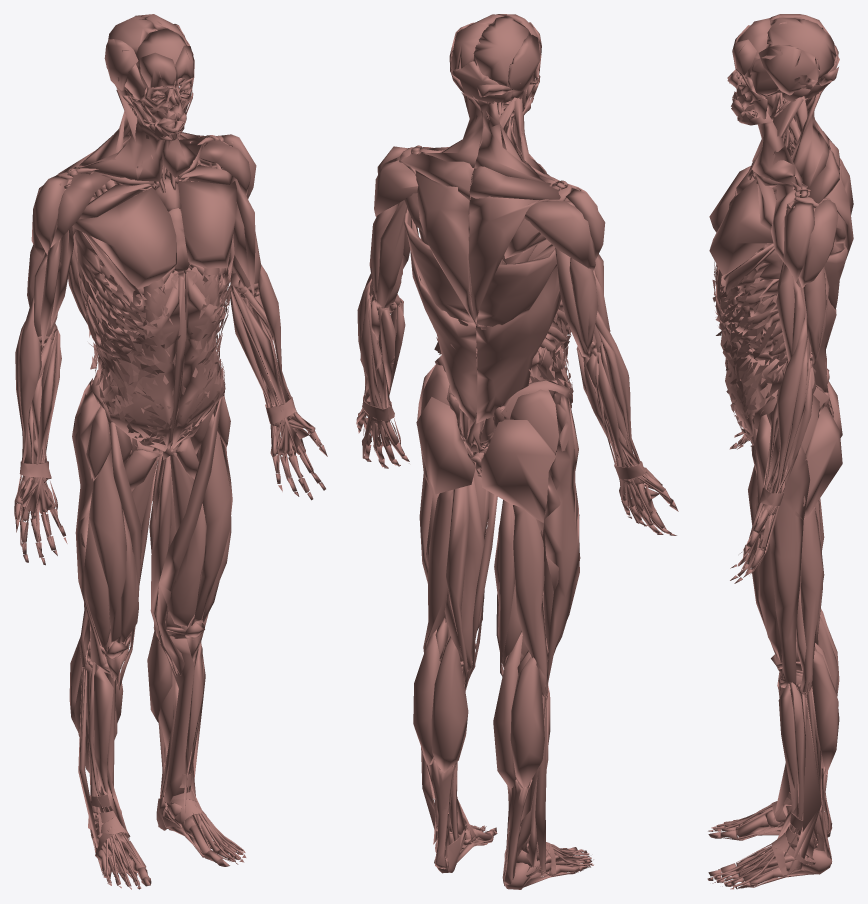
File: anatomy-mini.glb
3 views of the same model, side by side, from view 1: azimuth 30°, elevation 25°; view 2: azimuth 150°, elevation 25°; view 3: azimuth 270°, elevation 25° (orthographic). The views are drawn at different scales.
Parts seen in each view (by area): view 1: muscle__other-muscles, muscle__quadriceps, muscle__pectoralis-major, muscle__internal-oblique, muscle__external-oblique, muscle__forearm-flexors, muscle__adductors, soft__tissue, muscle__biceps-brachii, muscle__tibialis-anterior, bone__cranium, bone__tibia (+20 smaller); view 2: muscle__other-muscles, muscle__latissimus-dorsi, muscle__hamstrings, muscle__gastrocnemius, muscle__gluteus-maximus, muscle__trapezius-upper, muscle__forearm-extensors, muscle__triceps-brachii, bone__cranium, soft__tissue, muscle__deltoid-posterior, muscle__trapezius-lower (+17 smaller); view 3: muscle__other-muscles, muscle__pectoralis-major, muscle__external-oblique, bone__cranium, muscle__hamstrings, soft__tissue, muscle__gastrocnemius, muscle__gluteus-maximus, muscle__fibularis, muscle__internal-oblique, muscle__quadriceps, muscle__forearm-extensors (+22 smaller).
Part boxes in pixels (left/top/right/bottom): muscle__other-muscles: left=19, top=24, right=312, bottom=882; muscle__quadriceps: left=80, top=413, right=231, bottom=681; muscle__pectoralis-major: left=73, top=165, right=236, bottom=305; muscle__internal-oblique: left=96, top=273, right=224, bottom=451; muscle__external-oblique: left=86, top=261, right=232, bottom=445; muscle__forearm-flexors: left=19, top=285, right=321, bottom=552; muscle__adductors: left=119, top=438, right=198, bottom=690; soft__tissue: left=19, top=396, right=295, bottom=885; muscle__biceps-brachii: left=40, top=179, right=255, bottom=347; muscle__tibialis-anterior: left=94, top=642, right=202, bottom=839; bone__cranium: left=108, top=14, right=190, bottom=120; bone__tibia: left=88, top=635, right=196, bottom=812; muscle__other-muscles: left=362, top=22, right=664, bottom=887; muscle__latissimus-dorsi: left=404, top=208, right=561, bottom=423; muscle__hamstrings: left=423, top=477, right=547, bottom=696; muscle__gastrocnemius: left=413, top=628, right=544, bottom=788; muscle__gluteus-maximus: left=416, top=397, right=555, bottom=522; muscle__trapezius-upper: left=415, top=170, right=539, bottom=325; muscle__forearm-extensors: left=356, top=279, right=671, bottom=532; muscle__triceps-brachii: left=369, top=200, right=598, bottom=358; bone__cranium: left=450, top=14, right=540, bottom=103; soft__tissue: left=362, top=112, right=645, bottom=885; muscle__deltoid-posterior: left=374, top=160, right=595, bottom=271; muscle__trapezius-lower: left=423, top=94, right=546, bottom=183; muscle__other-muscles: left=721, top=25, right=839, bottom=888; muscle__pectoralis-major: left=709, top=166, right=776, bottom=294; muscle__external-oblique: left=712, top=261, right=786, bottom=439; bone__cranium: left=727, top=14, right=838, bottom=105; muscle__hamstrings: left=796, top=498, right=824, bottom=693; soft__tissue: left=713, top=485, right=832, bottom=887; muscle__gastrocnemius: left=811, top=609, right=839, bottom=774; muscle__gluteus-maximus: left=803, top=381, right=842, bottom=519; muscle__fibularis: left=784, top=689, right=821, bottom=874; muscle__internal-oblique: left=715, top=266, right=788, bottom=440; muscle__quadriceps: left=748, top=465, right=801, bottom=690; muscle__forearm-extensors: left=747, top=342, right=815, bottom=574.
Size of the model in its own units: 0.6209 by 1.58 by 0.2496.
